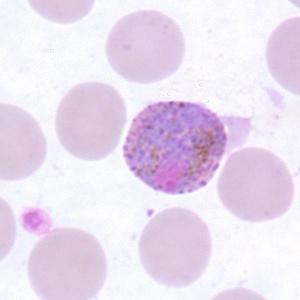Infected: (122, 101, 224, 195)
Uninfected: (138, 206, 212, 287), (217, 148, 296, 223), (107, 11, 186, 85), (27, 227, 107, 300), (54, 81, 128, 159)
